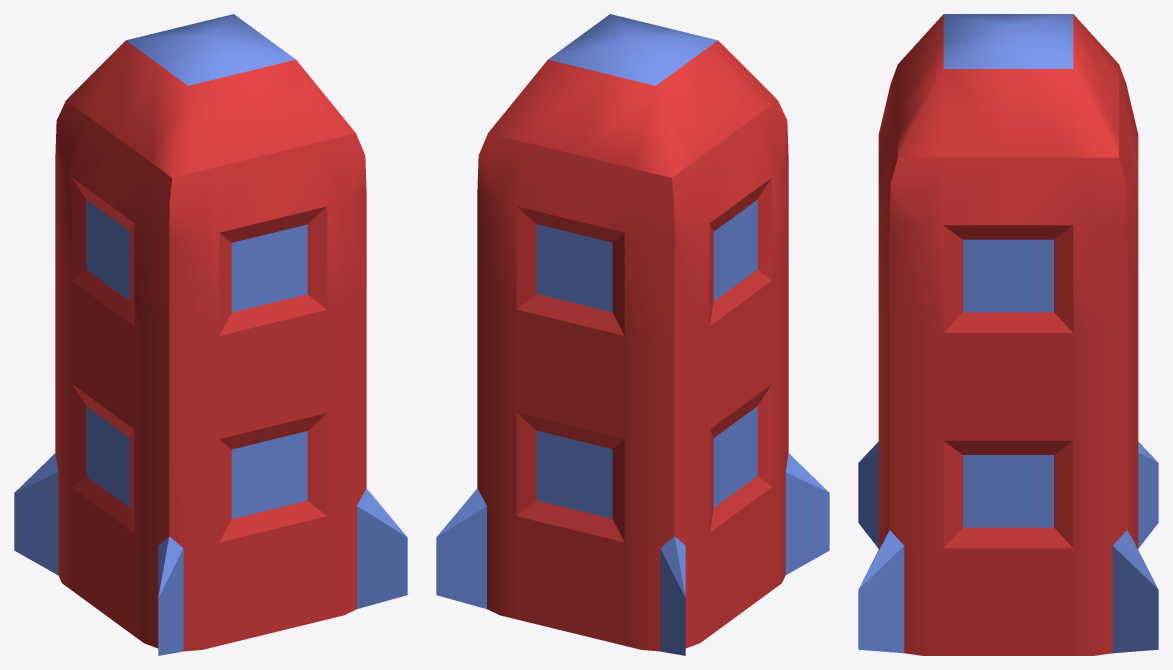
The model's file is Ruins 8.fbx.
3 views of the same model, side by side, from view 1: azimuth 30°, elevation 25°; view 2: azimuth 150°, elevation 25°; view 3: azimuth 270°, elevation 25° (orthographic). The views are drawn at different scales.
Parts seen in each view (by area): view 1: Ruins 8; view 2: Ruins 8; view 3: Ruins 8.
Boxes of the visible parts, x1,y1,x2,y2 form: Ruins 8: (14, 14, 407, 655); Ruins 8: (436, 14, 829, 655); Ruins 8: (858, 14, 1158, 655).
Size of the model in its own units: 23.11 by 48.83 by 23.11.
2 materials, 2 textured.
